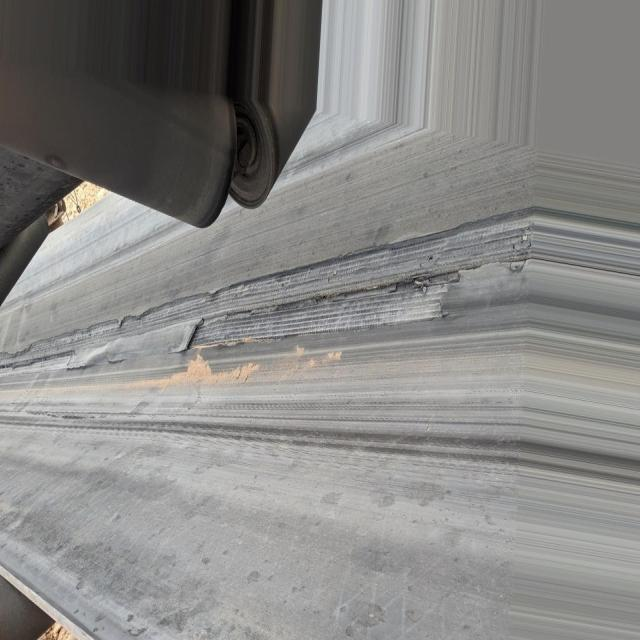Roller: (88, 95, 233, 232), (245, 56, 320, 210), (0, 211, 53, 302), (1, 579, 53, 640)
Tear: (5, 209, 524, 368)
